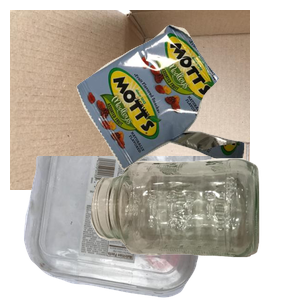cardboard: (10, 10, 250, 190)
glass: (88, 156, 300, 300)
plastic: (21, 156, 226, 300)
trash: (74, 22, 300, 185)
